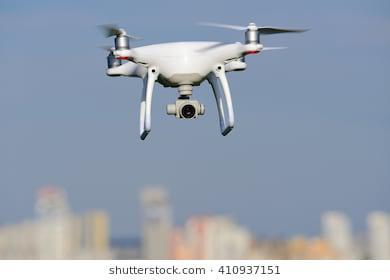drone: (75, 9, 315, 143)
